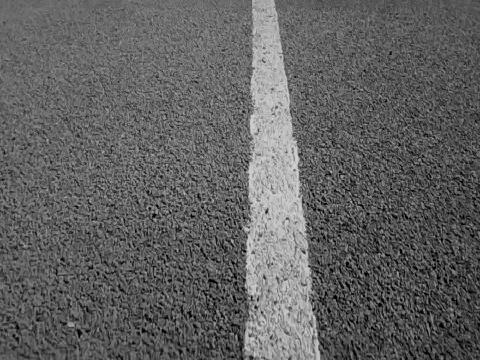Lines: (245, 0, 322, 360)
